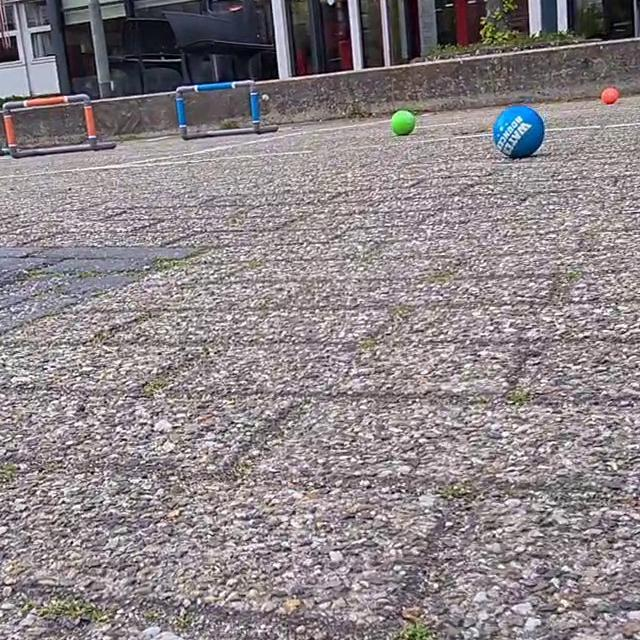ball: (389, 109, 416, 139)
